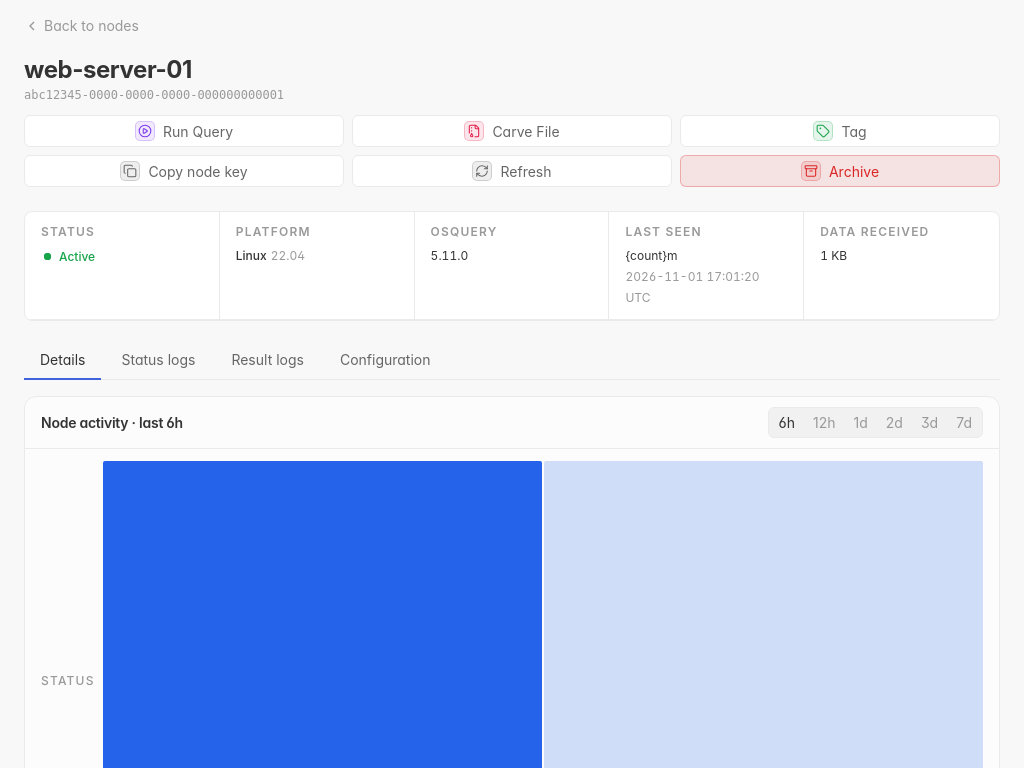
it: NodeDetailPage › hides posture query results from the result logs tab
expect the heading "web-server-01" is shown: met, box [24,55,192,84]
Click the tab "Result logs" at (268, 360), box [215,341,320,380]
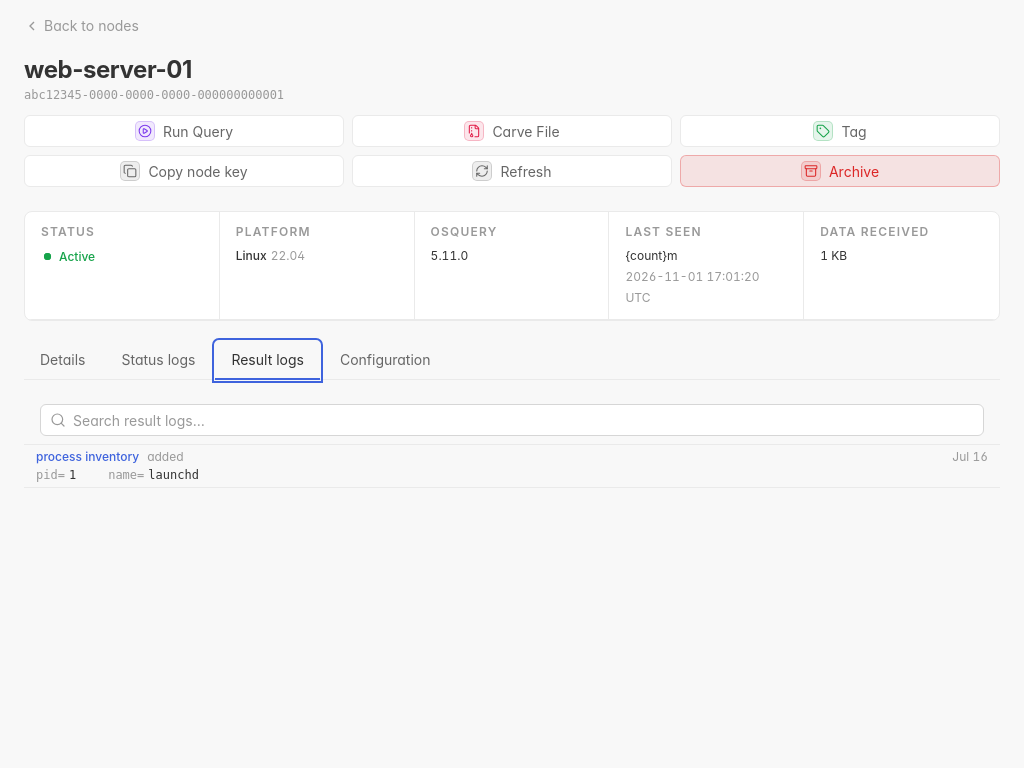
expect the text "process inventory" is shown: met, box [36,449,139,465]
